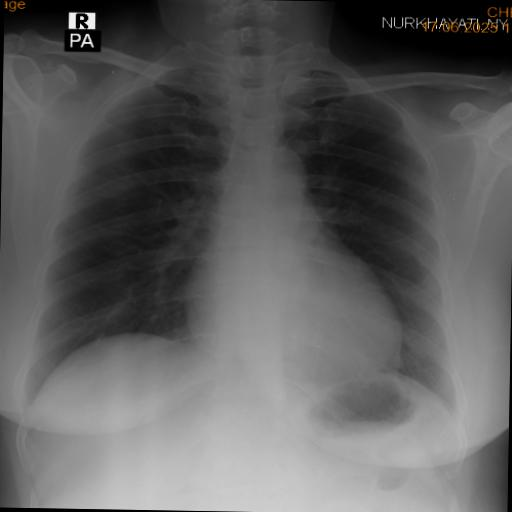kardiomegali: (171, 224, 418, 390)
